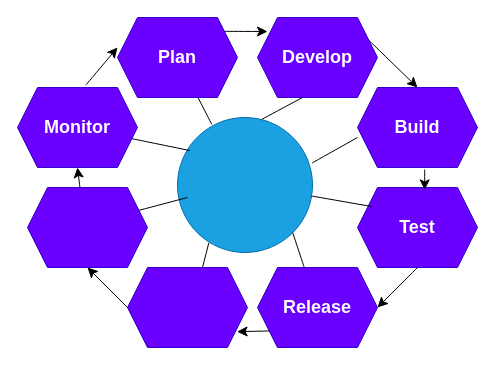
Image size: 495x365. Some labels were removed from this diagram. The centre of each missing label's shape, as x and y in pixels:
Deploy: pixel 187 307
Food Delivery App: pixel 244 184
Operate: pixel 87 227
